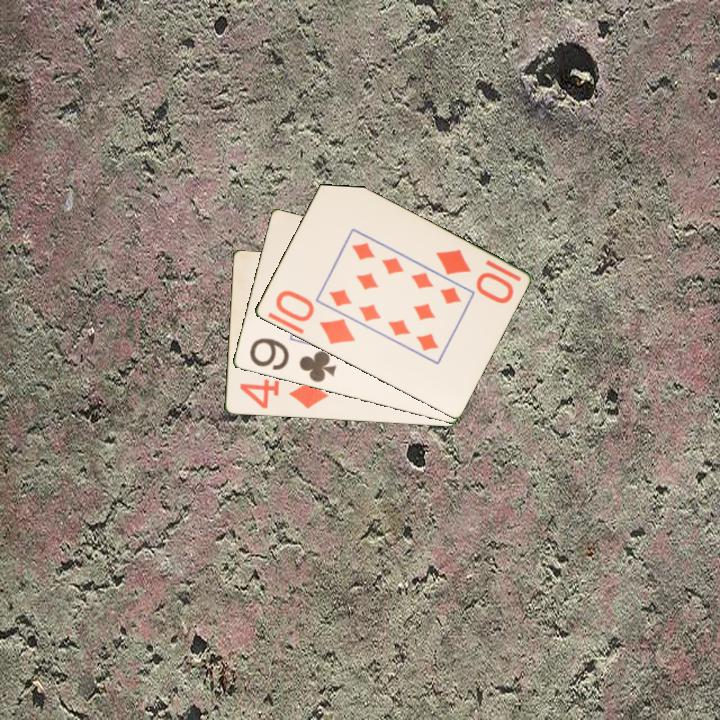10d: (271, 286, 358, 348), (432, 245, 516, 307)
4d: (236, 376, 331, 412)
9c: (246, 334, 339, 386)
